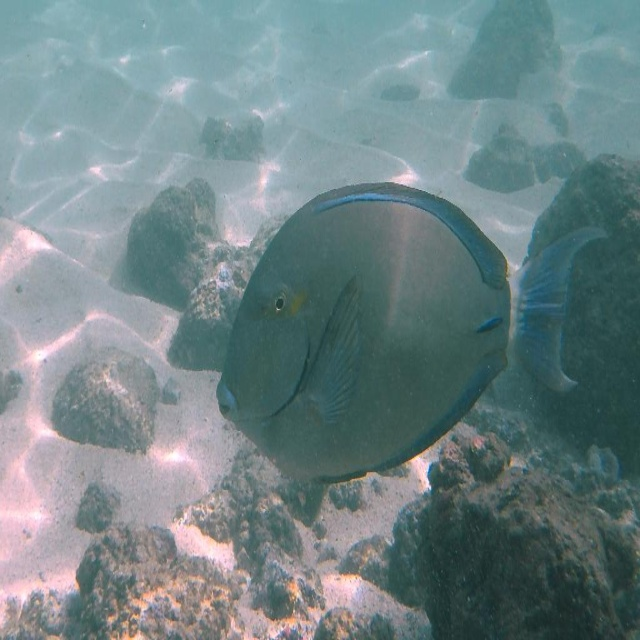Fish: (206, 150, 533, 505)
